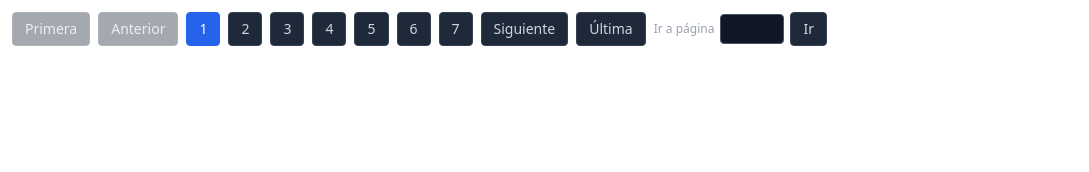
Test: Pagination — US-26 navegación numerada › el input "ir a página" rechaza un valor no numérico sin navegar
This screenshot has width=1089, height=172.
Step 1. Type "0" into the number field labelled "Ir a página" → (752, 29), box [720,14,784,44]
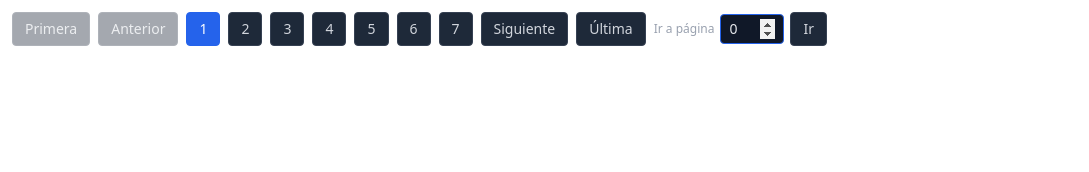
Step 2. Click the button "Ir" → (809, 29), box [790,12,827,46]
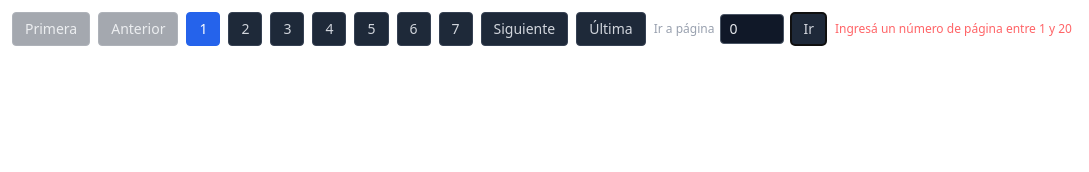
Expected: the message "Ingresá un número de página entre 1 y 20" is shown, [835,21,1072,37]
